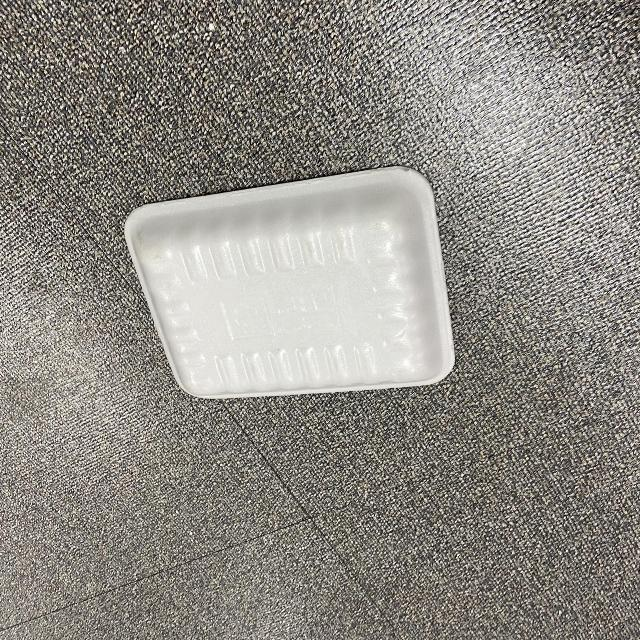Plastico descartable: (123, 167, 456, 401)
